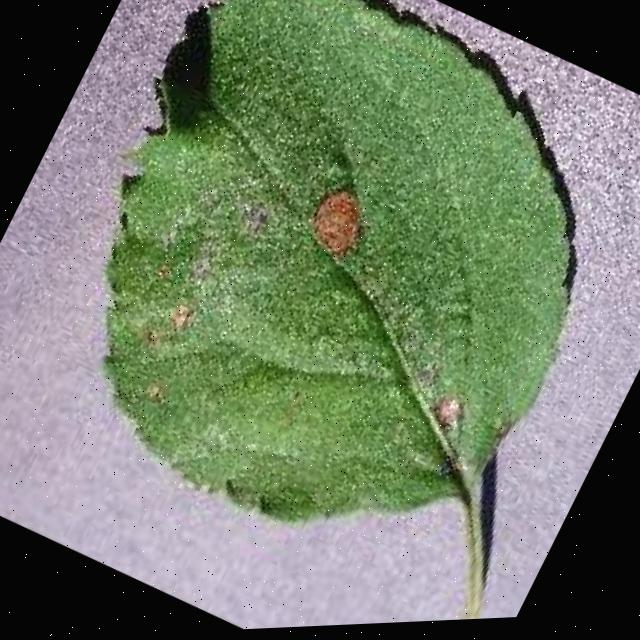black_rot: (283, 161, 398, 286), (412, 378, 487, 455)
